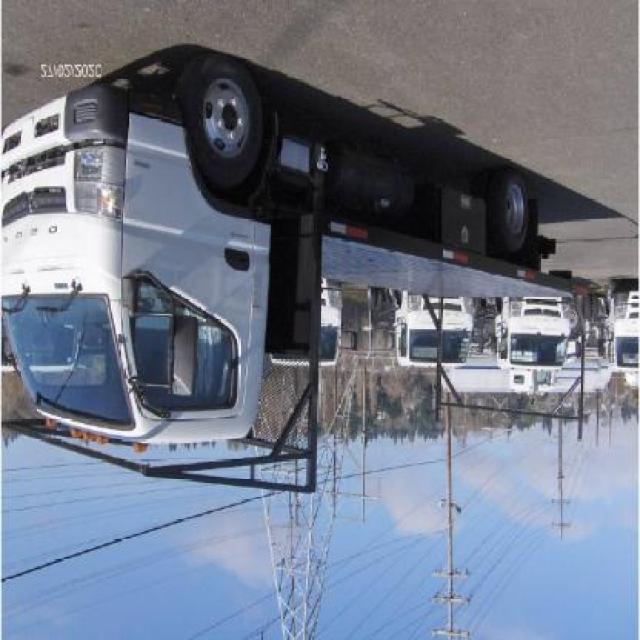truck: (1, 61, 558, 498)
